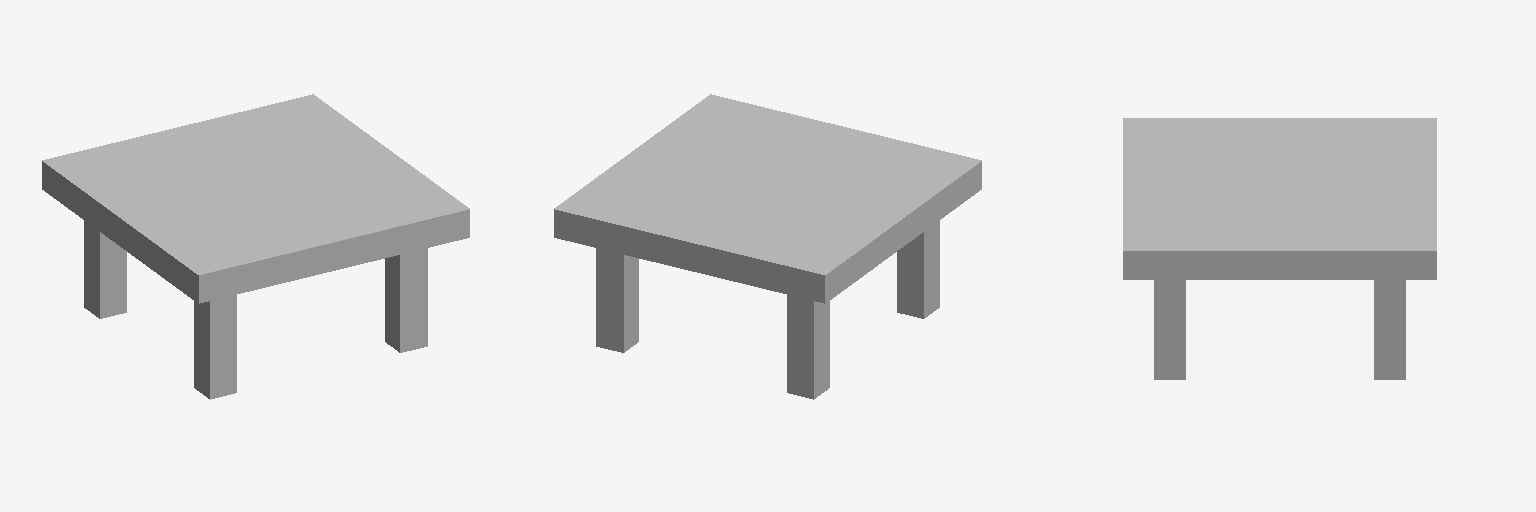
File: table.obj
3 renders of one model, left to right at view 1: azimuth 30°, elevation 25°; view 2: azimuth 150°, elevation 25°; view 3: azimuth 270°, elevation 25°, orthographic.
Parts seen in each view (by area): view 1: table; view 2: table; view 3: table.
Boxes of the visible parts, x1,y1,x2,y2 form: table: [42, 94, 469, 399]; table: [554, 94, 981, 399]; table: [1123, 118, 1436, 379].
Bounding box in the file's own units: 10 × 5 × 10.